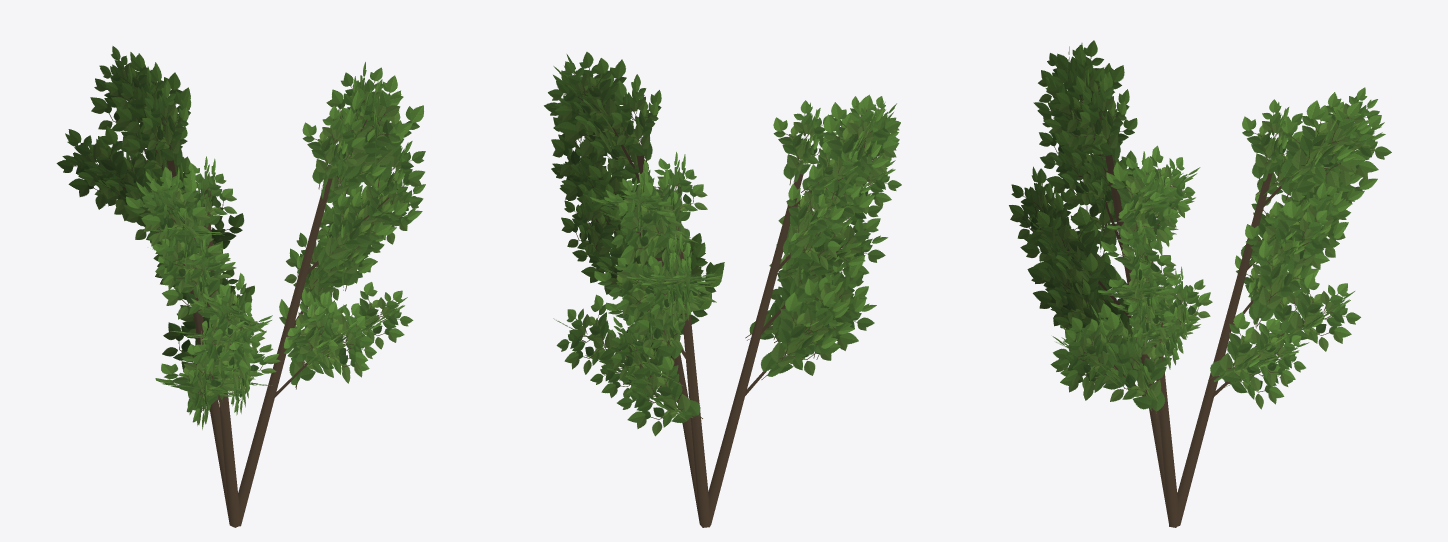
File: Tall Shrub 01.glb
The picture shows the model from 3 angles, left to right: view 1: azimuth 30°, elevation 25°; view 2: azimuth 150°, elevation 25°; view 3: azimuth 270°, elevation 25°; orthographic projection.
Parts seen in each view (by area): view 1: Tall Shrub 01; view 2: Tall Shrub 01; view 3: Tall Shrub 01.
Part boxes in pixels (<box>): Tall Shrub 01: <box>56,46,425,527</box>; Tall Shrub 01: <box>544,52,901,527</box>; Tall Shrub 01: <box>1009,40,1391,527</box>.
Size of the model in its own units: 2.53 by 2.93 by 2.62.
1 material, 1 textured.
